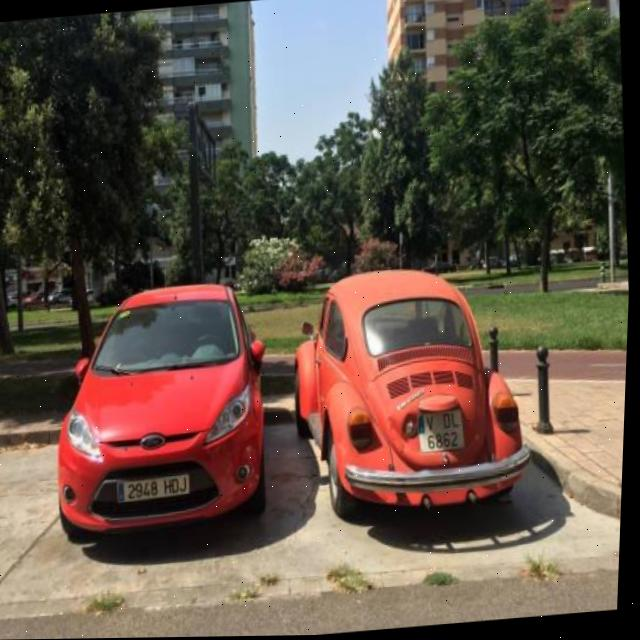vehicle: (285, 270, 540, 525), (48, 280, 283, 531)
